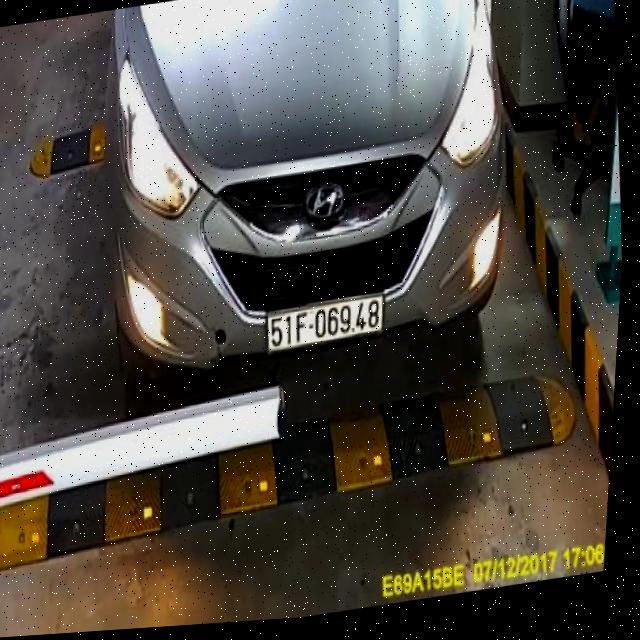car: (79, 0, 542, 410)
plate: (261, 286, 391, 358)
